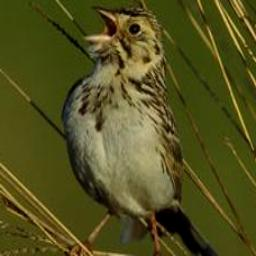Sparrow: (57, 0, 236, 256)
